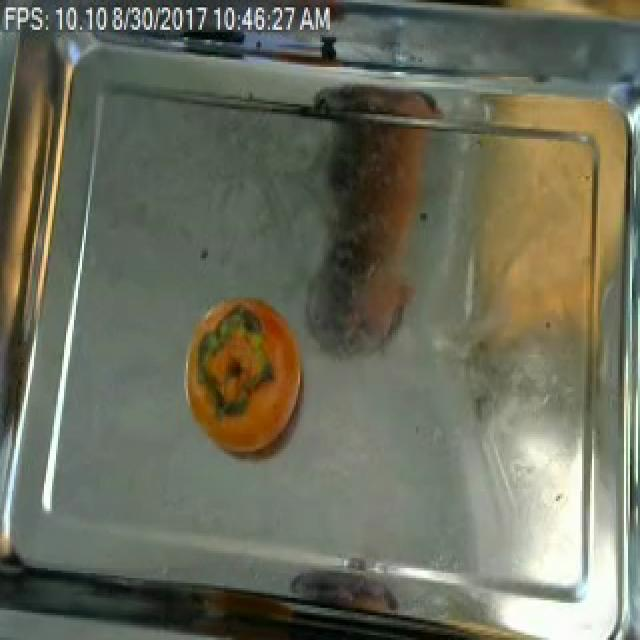Fruit: (452, 119, 612, 414), (188, 290, 300, 449)
